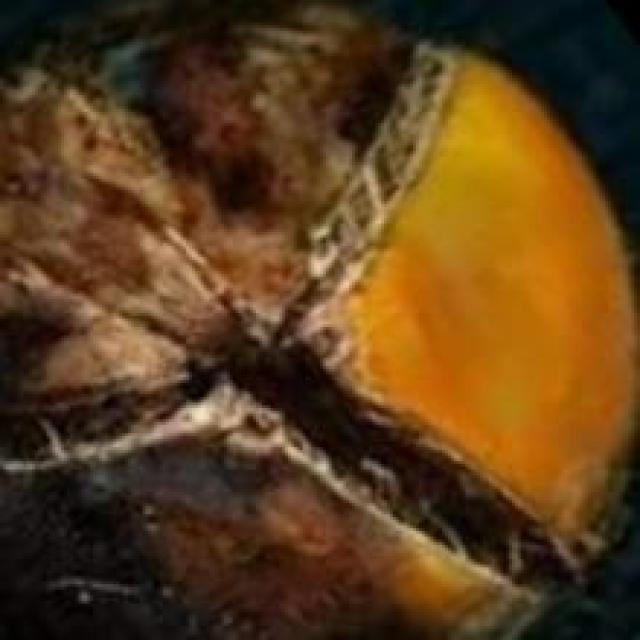damaged: (0, 6, 637, 637)
